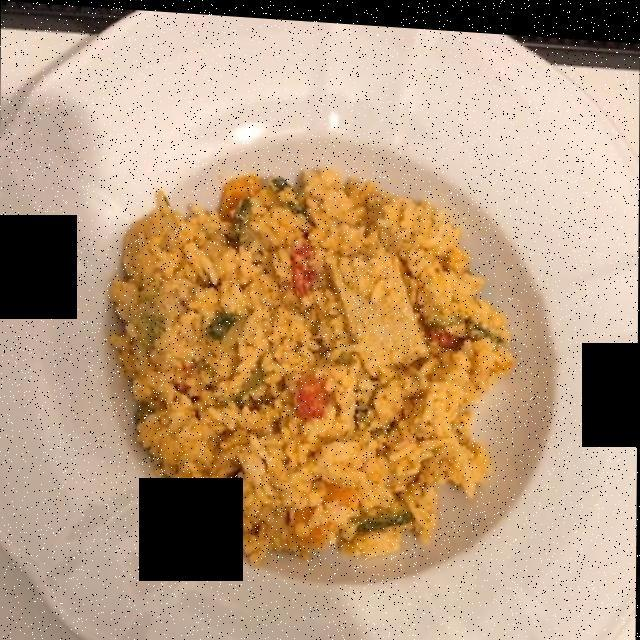mixed-vegetables: (197, 168, 416, 545)
rice: (100, 173, 496, 545)
tofu: (318, 251, 436, 371)
